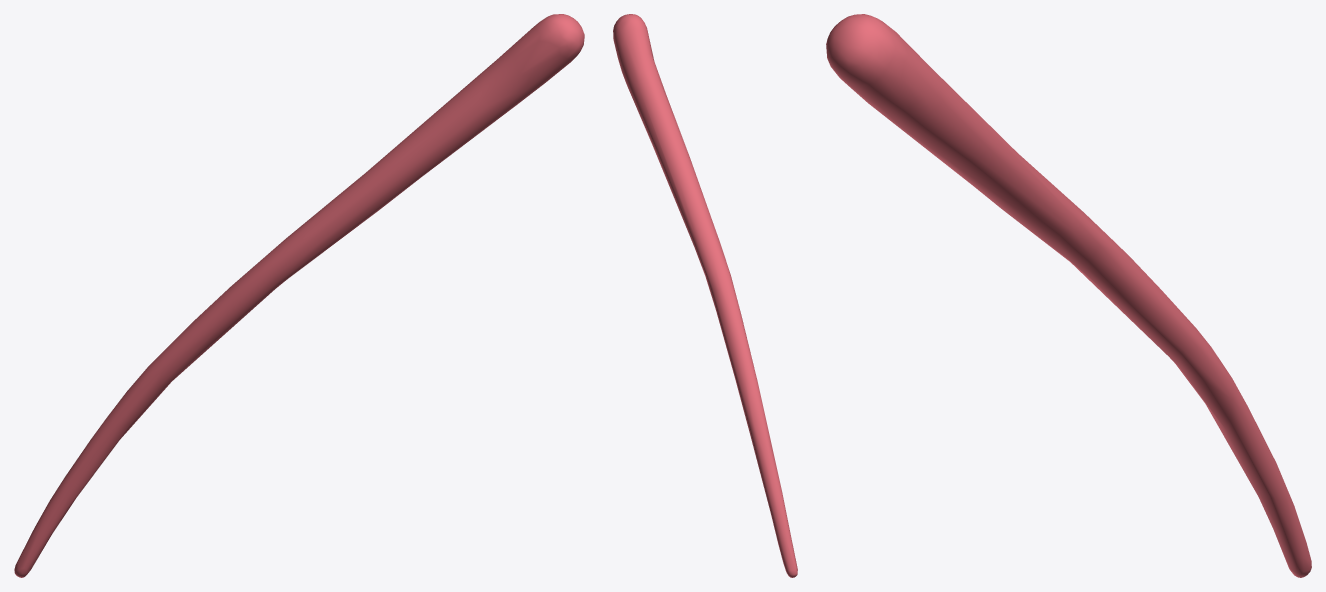
The model's file is fma31525_fj6110.glb.
3 renders of one model, left to right at view 1: azimuth 30°, elevation 25°; view 2: azimuth 150°, elevation 25°; view 3: azimuth 270°, elevation 25°, orthographic. The views are drawn at different scales.
Visible parts, largest first — view 1: FMA31525_FJ6110; view 2: FMA31525_FJ6110; view 3: FMA31525_FJ6110.
Part boxes in pixels (bbox=[...]): FMA31525_FJ6110: bbox=[14, 14, 584, 577]; FMA31525_FJ6110: bbox=[613, 14, 797, 577]; FMA31525_FJ6110: bbox=[826, 14, 1311, 577].
Size of the model in its own units: 0.0611 by 0.0826 by 0.0441.
